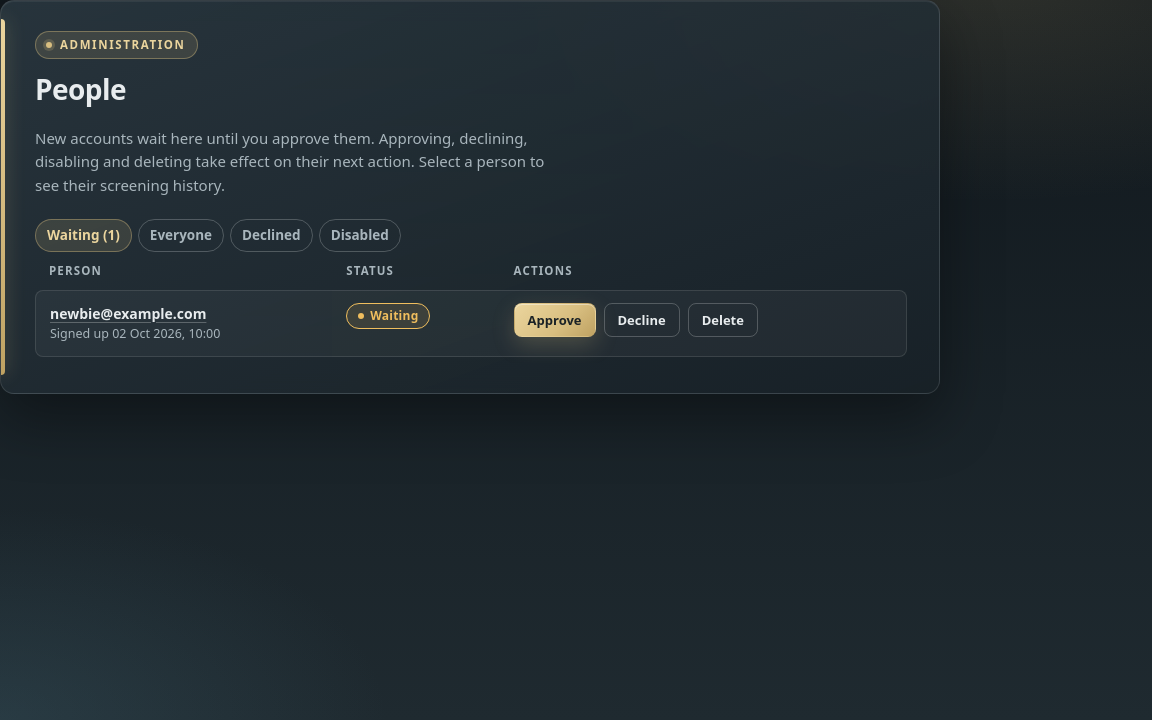
Test: People › asks before declining, focuses Cancel, and does nothing if cancelled
Click the button "Decline" at (642, 320), box [604, 303, 680, 337]
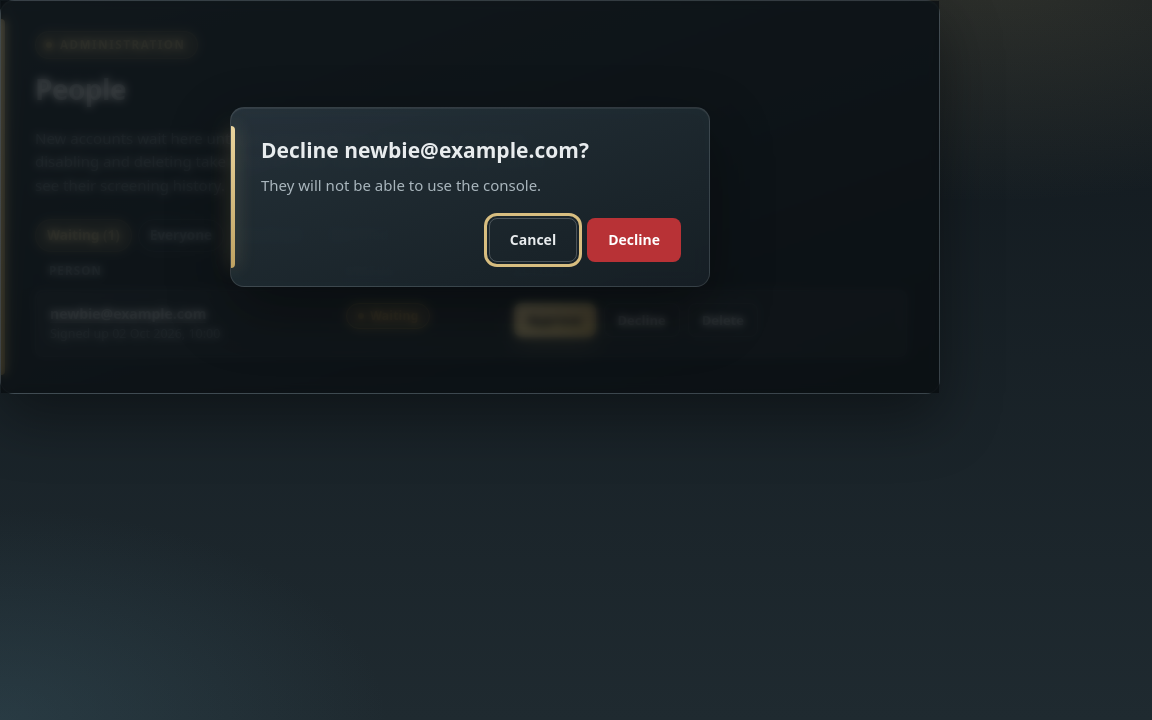
Expected: the heading "Decline newbie@example.com?" is shown, [261, 136, 589, 164]
Click the button "Cancel" at (533, 240), box [489, 218, 577, 262]
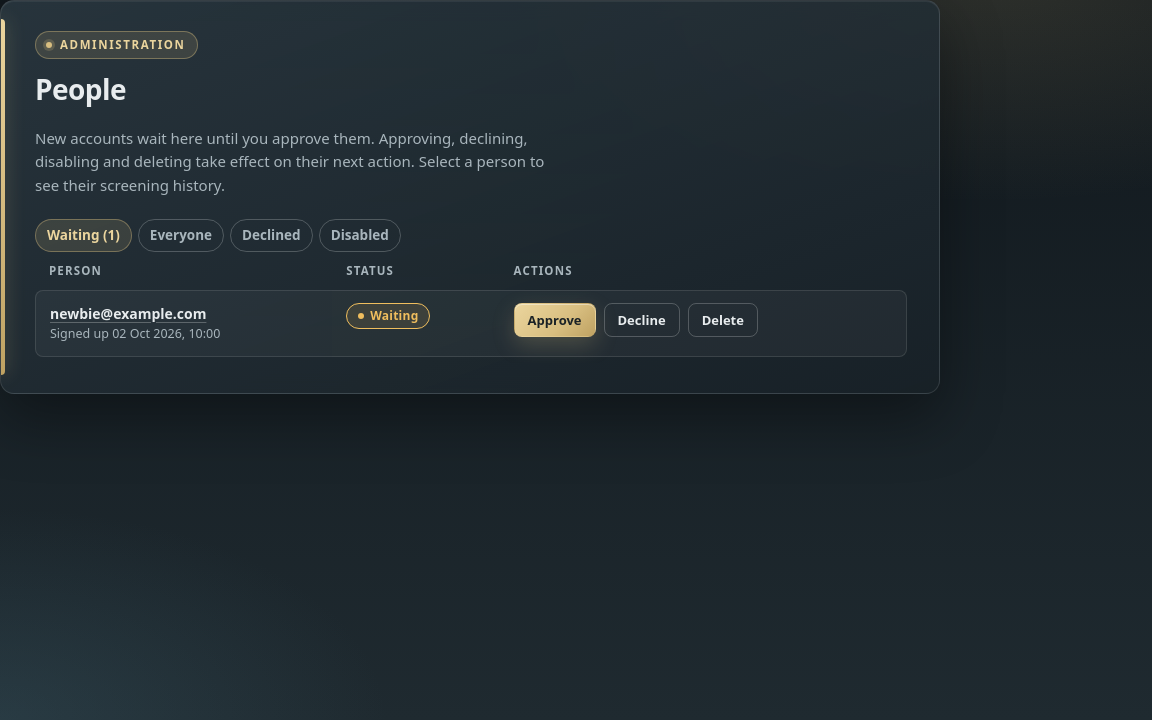
Expected: the dialog is gone
